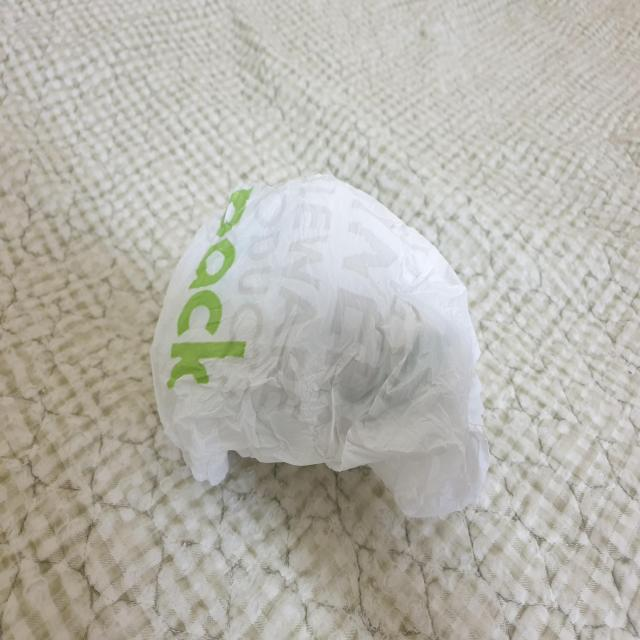plastic bag: (142, 161, 503, 531)
